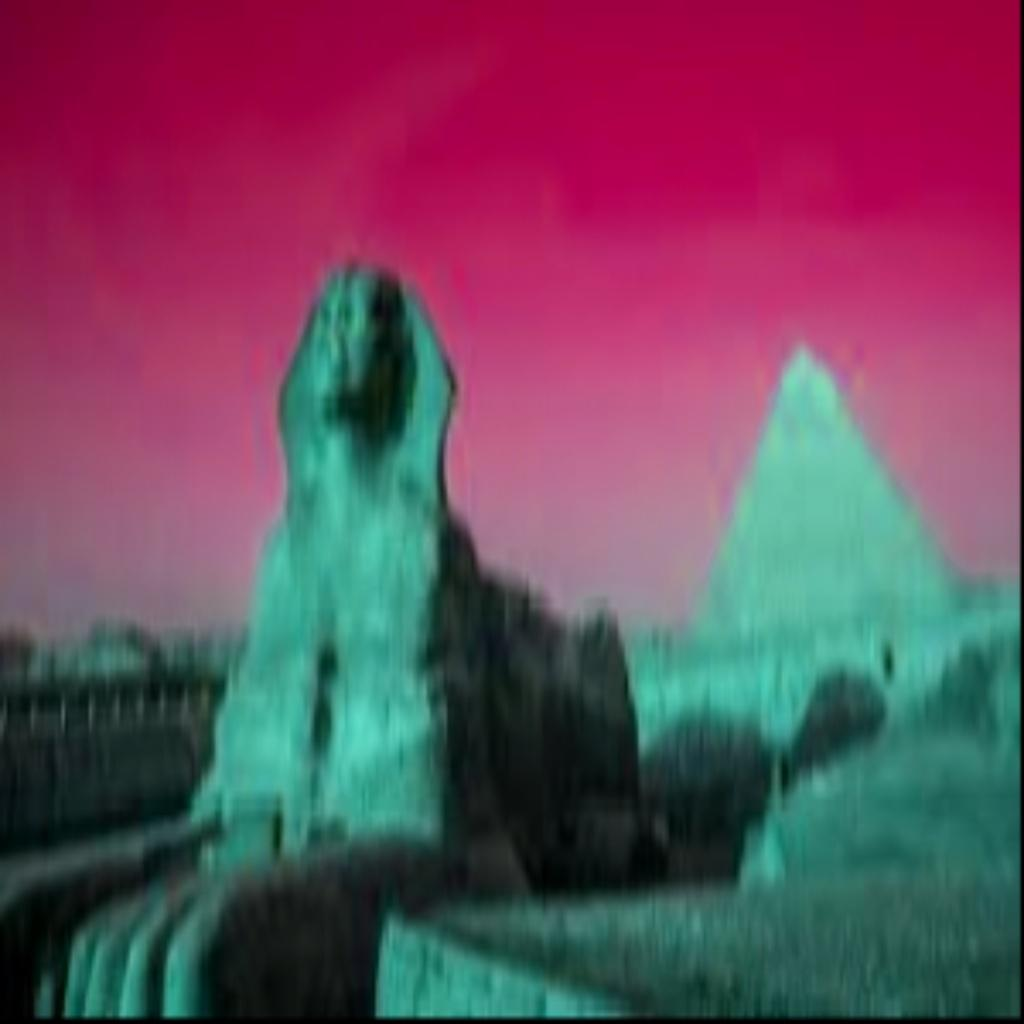Sphinx: (184, 262, 642, 896)
